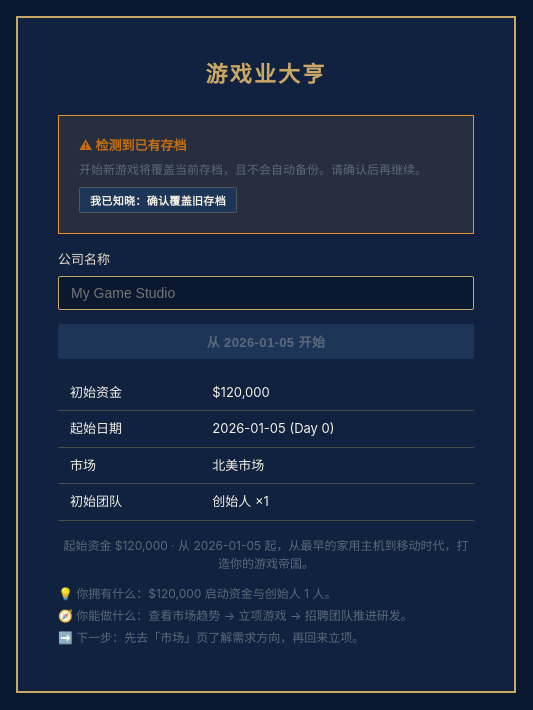
Test case: P-01 创建公司页（create-company.tsx 改造） › 已有存档：覆盖警告确认（M-03 禁态），确认前提交禁用
This screenshot has width=533, height=710.
Expected: the element with test id "overwrite-warning" is shown, left=58, top=114, right=474, bottom=234
Expected: the button "从 2026-01-05 开始" is disabled, left=58, top=324, right=474, bottom=358
Click the button with test id "overwrite-confirm".
click(158, 200)  # box left=79, top=187, right=237, bottom=213
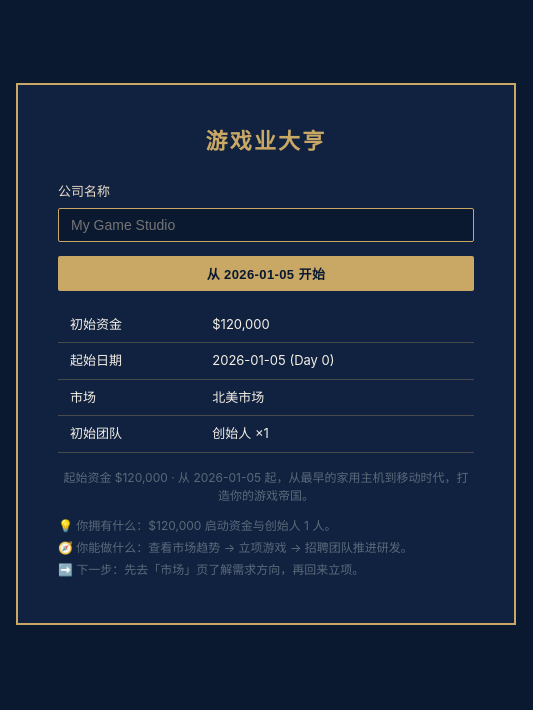
Now the button "从 2026-01-05 开始" is enabled, box left=58, top=256, right=474, bottom=291
